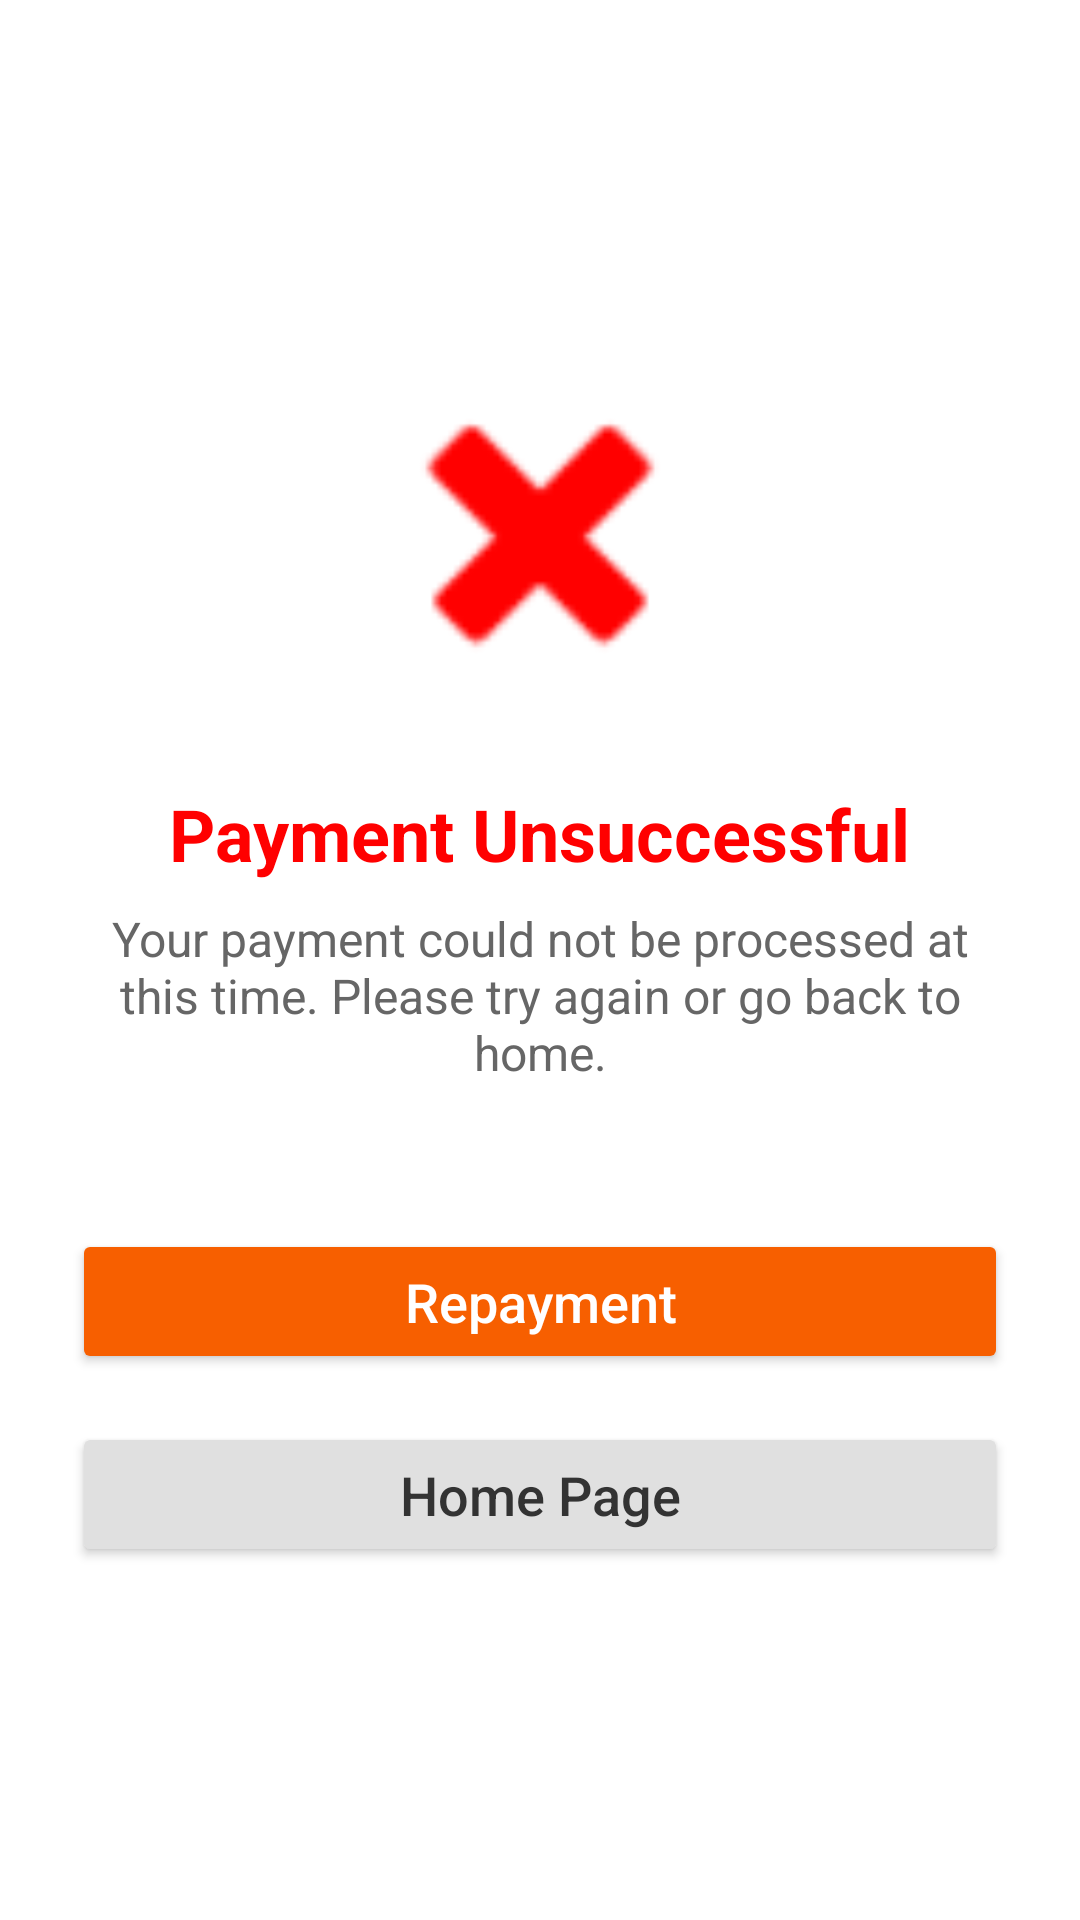

Screen size 1080w x 1920h. Icon name, then its center in pixels as (x,y):
delete: (540,535)
